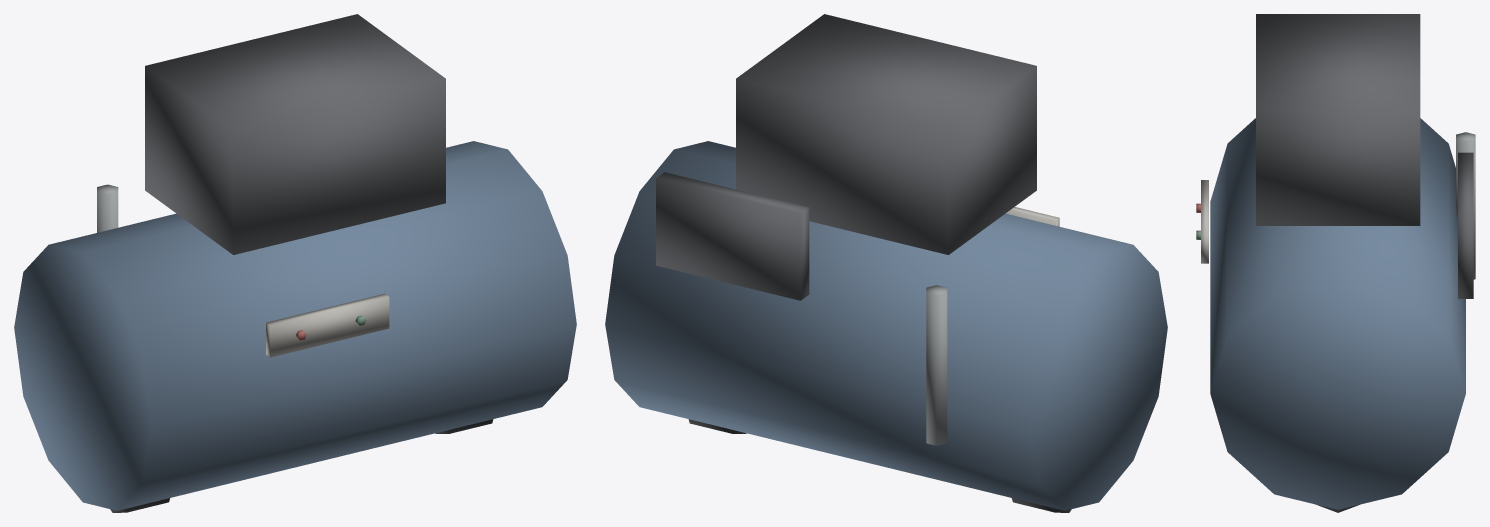
Rendered from air_compressor__service.glb.
3 views of the same model, side by side, from view 1: azimuth 30°, elevation 25°; view 2: azimuth 150°, elevation 25°; view 3: azimuth 270°, elevation 25° (orthographic). The views are drawn at different scales.
Visible parts, largest first — view 1: world; view 2: world; view 3: world.
Boxes of the visible parts, left/top/right/bottom form: world: left=14, top=14, right=576, bottom=512; world: left=605, top=14, right=1167, bottom=512; world: left=1196, top=14, right=1475, bottom=512.
Bounding box in the file's own units: 1 × 0.89 × 0.6127.
